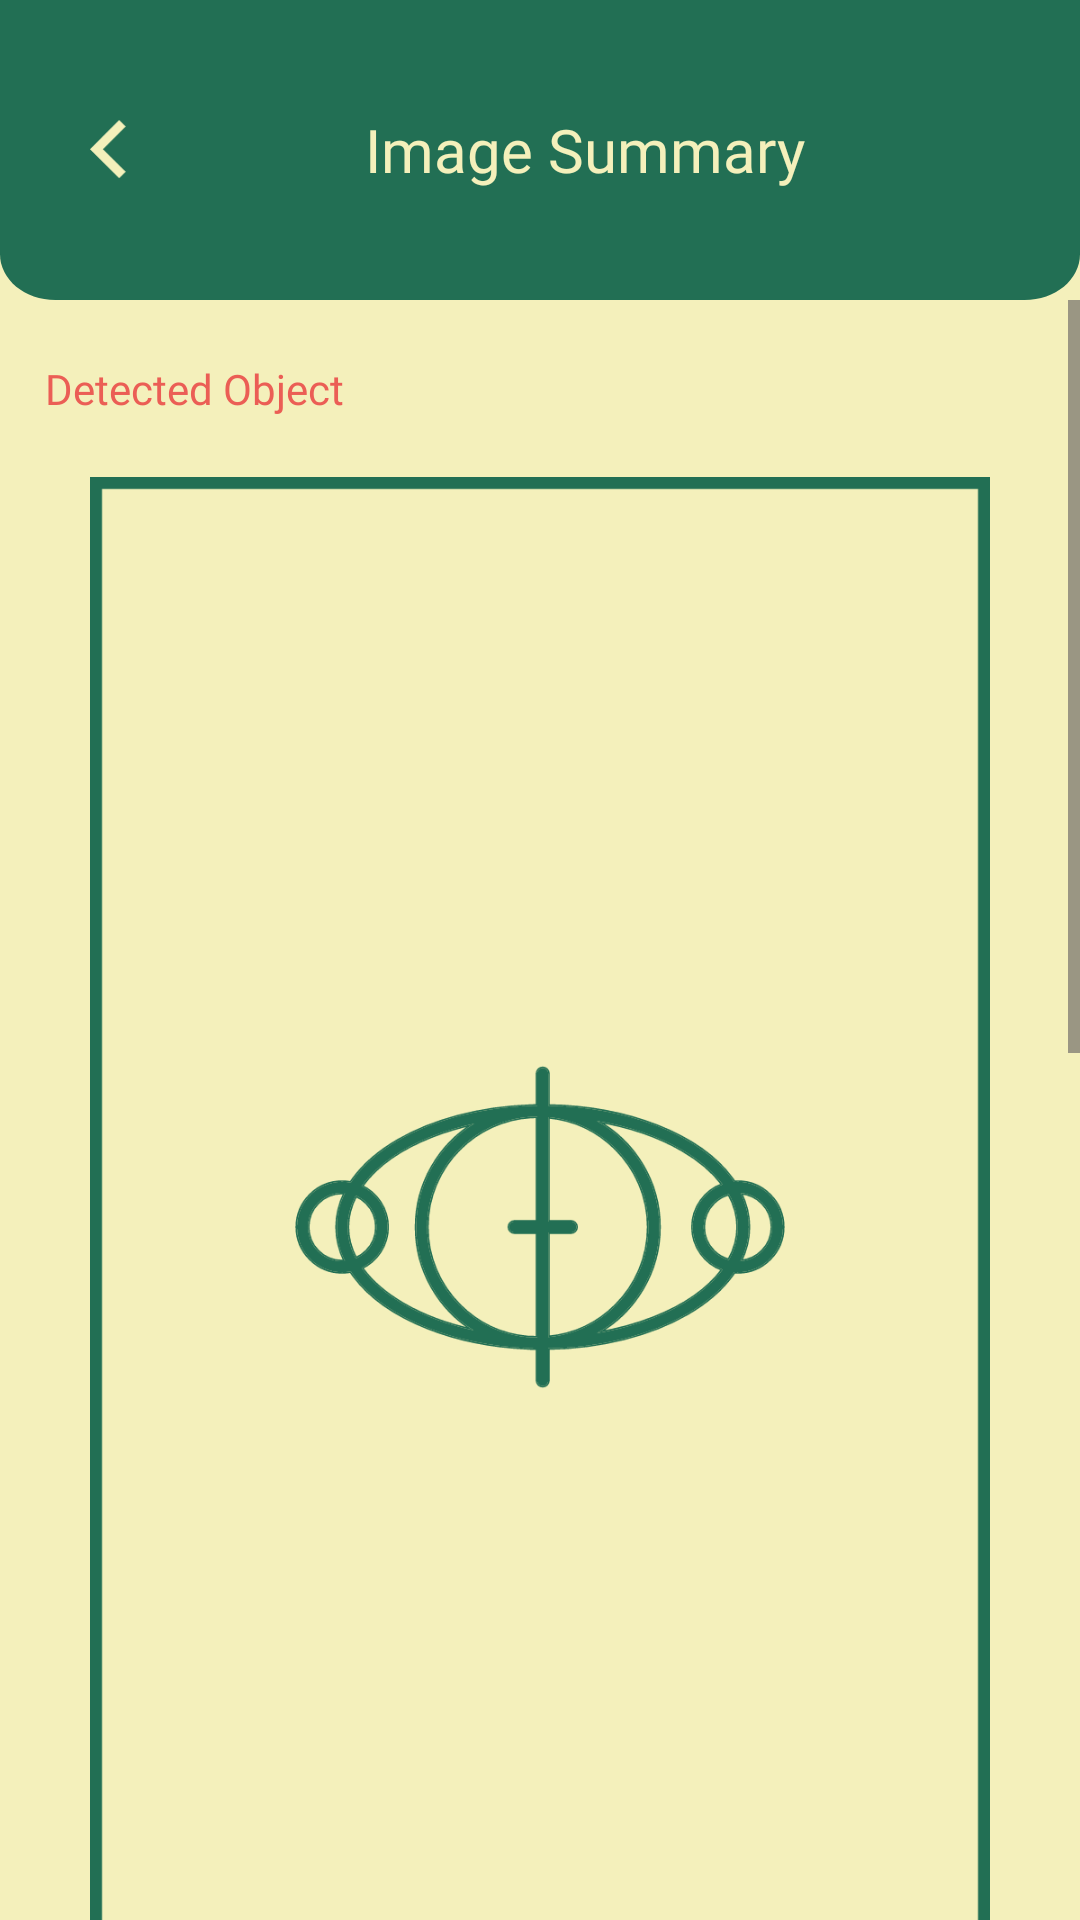

Icons on this 1080x1920 Android screen, each with the point to tap as (x,y):
back: (108,149)
